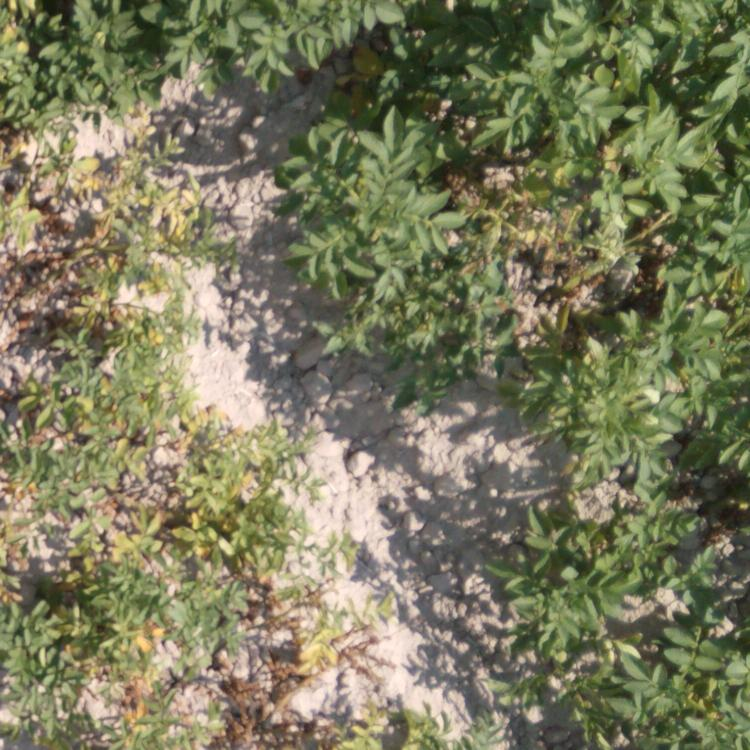healthy: (510, 169, 746, 470), (506, 479, 750, 743), (410, 1, 748, 161), (288, 178, 503, 369), (1, 1, 211, 107), (208, 1, 398, 80), (268, 83, 390, 171)
stressed: (1, 514, 294, 750), (1, 108, 223, 371), (1, 384, 314, 502), (296, 689, 478, 750), (299, 579, 410, 671)
